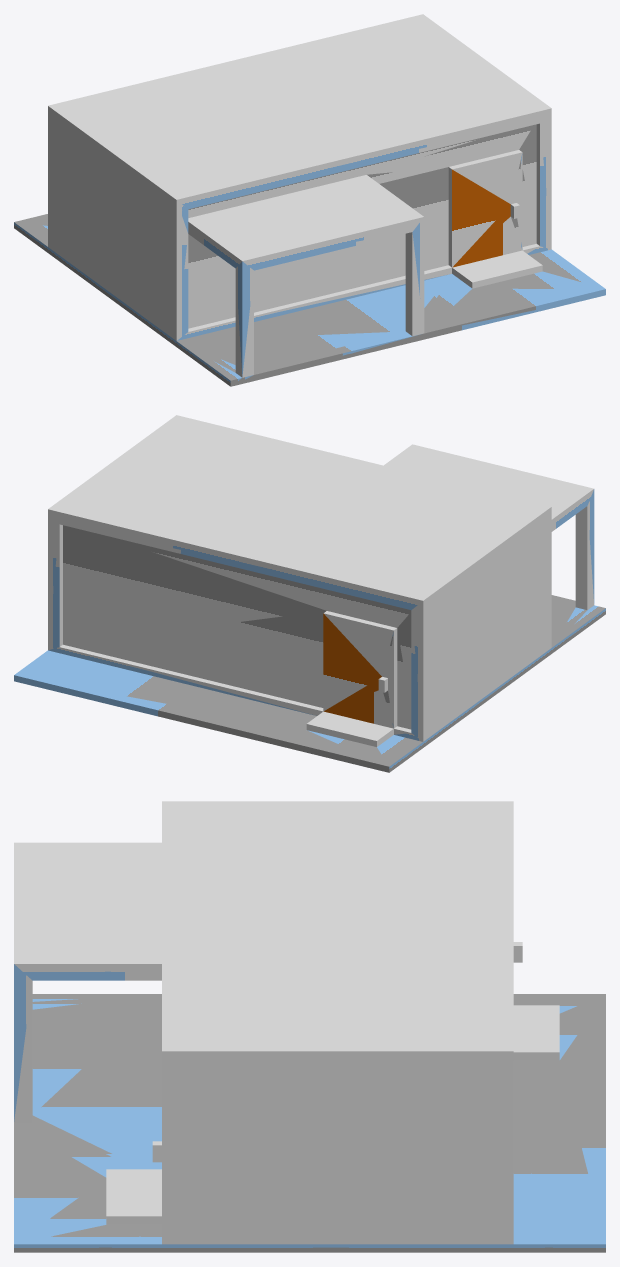
Rendered from obj_house2b.dae.
3 views of the same model, one above another, from view 1: azimuth 30°, elevation 25°; view 2: azimuth 150°, elevation 25°; view 3: azimuth 270°, elevation 25° (orthographic). The views are drawn at different scales.
Visible parts, largest first — view 1: obj_house2b; view 2: obj_house2b; view 3: obj_house2b.
Part boxes in pixels (bbox=[...]): obj_house2b: bbox=[14, 14, 605, 386]; obj_house2b: bbox=[14, 415, 605, 772]; obj_house2b: bbox=[14, 801, 605, 1252].
Bounding box in the file's own units: 6.4 × 6.4 × 2.4.
